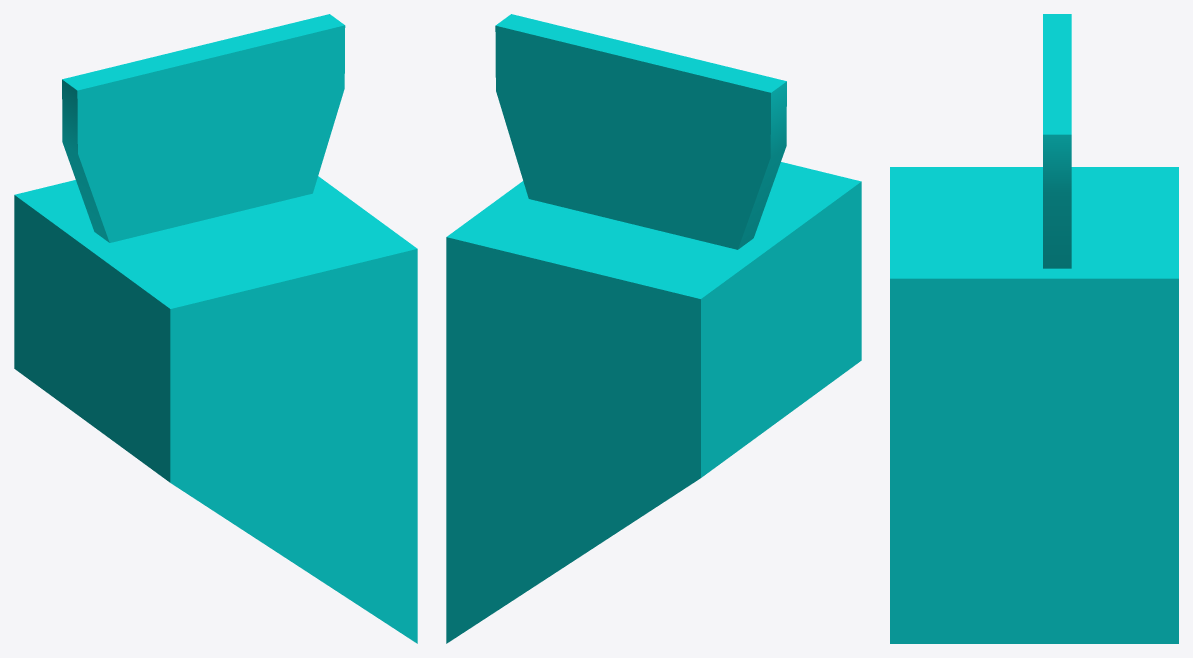
File: SM_Prop_Gingerbread_House_01_Chimney_01_Collision.fbx
3 renders of one model, left to right at view 1: azimuth 30°, elevation 25°; view 2: azimuth 150°, elevation 25°; view 3: azimuth 270°, elevation 25°, orthographic. The views are drawn at different scales.
Parts seen in each view (by area): view 1: SM_Prop_Gingerbread_House_01_Chimney_01_Collision; view 2: SM_Prop_Gingerbread_House_01_Chimney_01_Collision; view 3: SM_Prop_Gingerbread_House_01_Chimney_01_Collision.
Part boxes in pixels (x1,y1,x2,y2): SM_Prop_Gingerbread_House_01_Chimney_01_Collision: (14, 14, 417, 643); SM_Prop_Gingerbread_House_01_Chimney_01_Collision: (446, 14, 861, 643); SM_Prop_Gingerbread_House_01_Chimney_01_Collision: (890, 14, 1178, 643).
Bounding box in the file's own units: 112 × 222 × 113.
